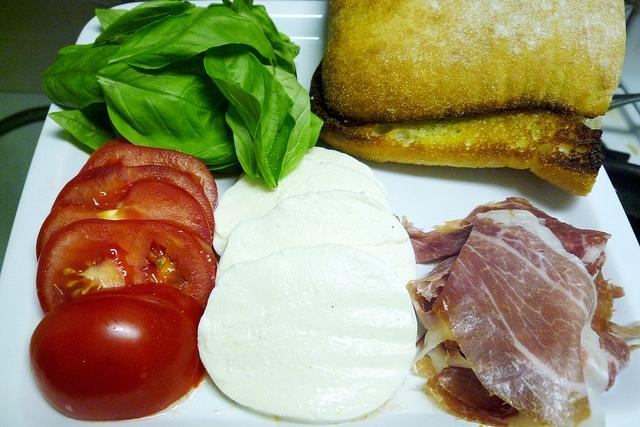tomato: (28, 283, 205, 421), (36, 219, 218, 315), (36, 178, 212, 263), (50, 164, 215, 249), (78, 138, 218, 211)
